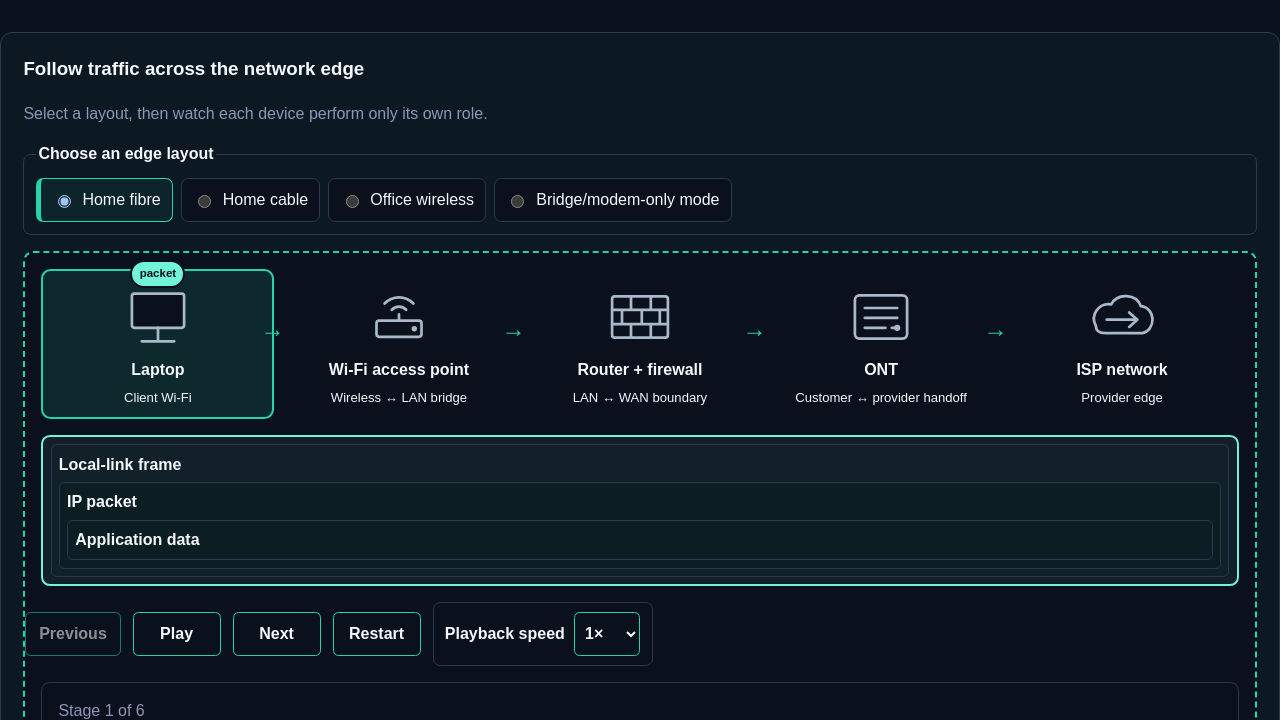
Test: EdgeDevicePlayer › resets the journey when the learner selects cable internet
The image size is (1280, 720).
Click the radio button labelled "Home cable" at [204, 202], box [198,195,211,208]
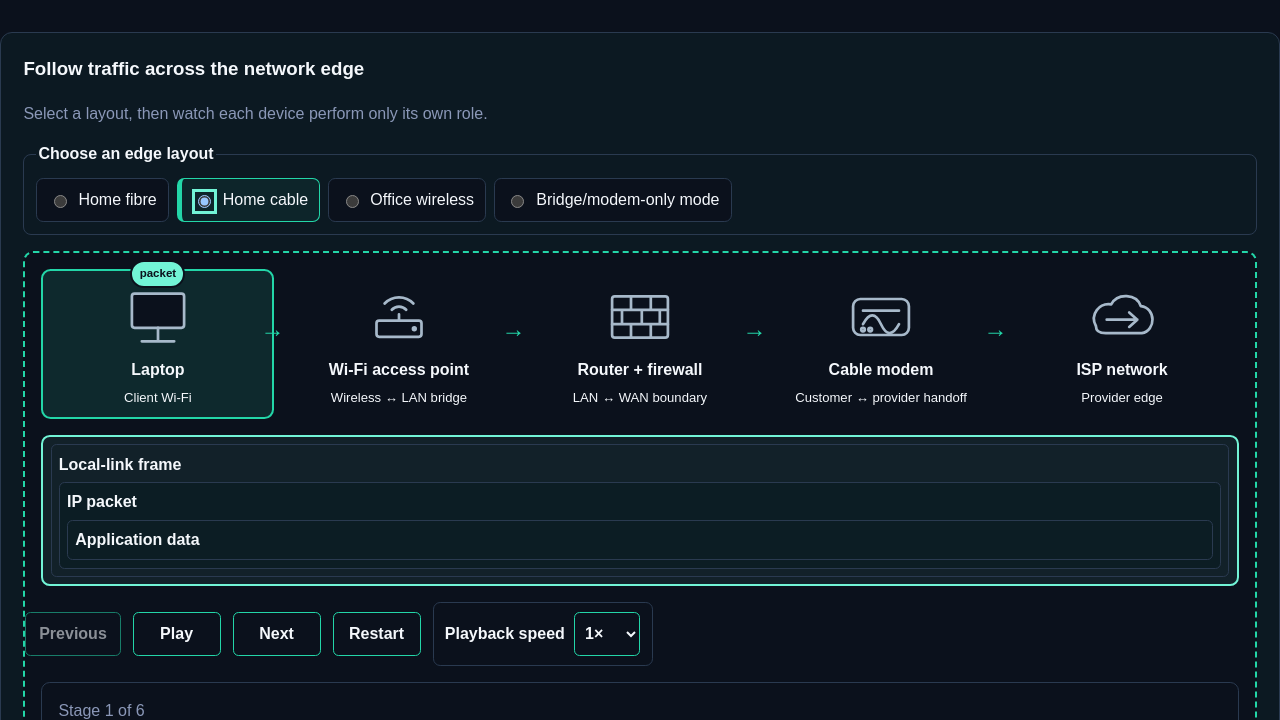
Expected: the text "Stage 1 of 6" is shown, [58,702,145,718]
Expected: the text "Cable modem" is shown, [829,358,934,382]
